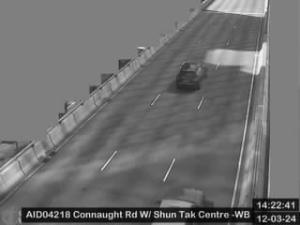vehicle: (150, 187, 210, 225), (176, 60, 208, 90)
